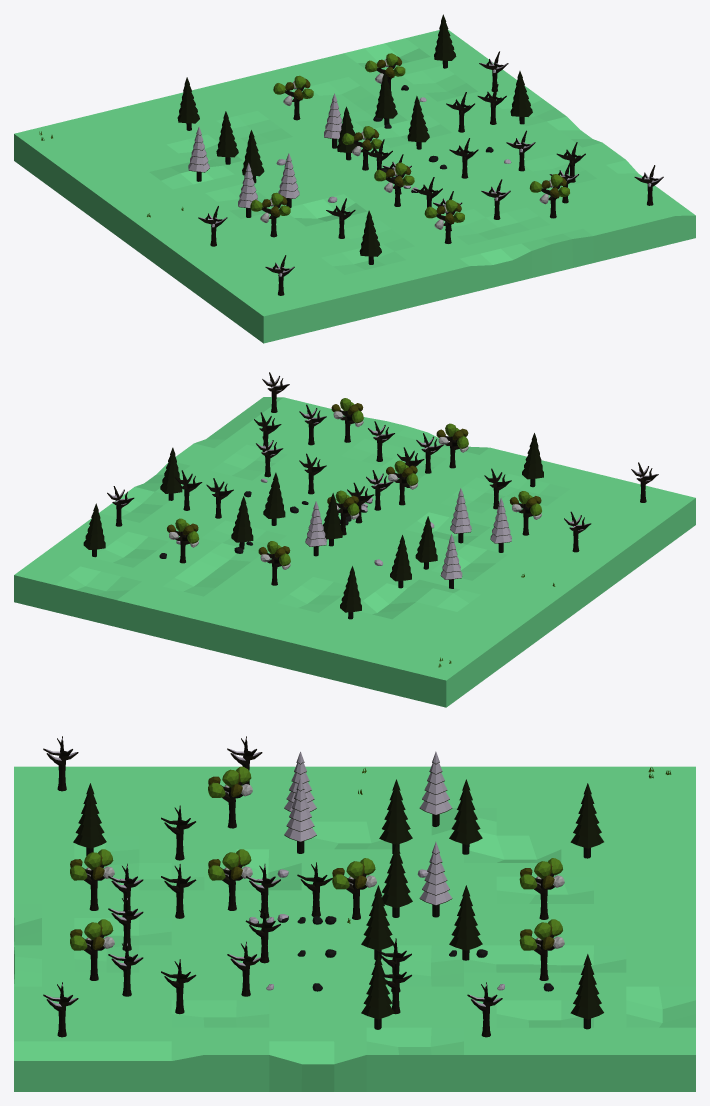
3 views of the same model, one above another, from view 1: azimuth 30°, elevation 25°; view 2: azimuth 150°, elevation 25°; view 3: azimuth 270°, elevation 25° (orthographic). The views are drawn at different scales.
Parts seen in each view (by area): view 1: Plane, Arbre_Normal_Cylinder.001, Arbre_Normal_Cylinder.007, Arbre_Normal_Cylinder.005, Arbre_Normal_Cylinder.004, Arbre_Normal_Cylinder.006, Arbre_Normal_Cylinder.002, Arbre_Normal_Cylinder.003, SapinHiver.015_Cylinder.004, SapinHiver.015_Cylinder.002, SapinHiver.015_Cylinder.008, SapinHiver.015_Cylinder.005 (+8 smaller); view 2: Plane, Arbre_Normal_Cylinder.007, Arbre_Normal_Cylinder.003, Arbre_Normal_Cylinder.005, Arbre_Normal_Cylinder.006, Arbre_Normal_Cylinder.004, Arbre_Normal_Cylinder.001, SapinHiver.015_Cylinder.008, SapinHiver.015_Cylinder.007, SapinHiver.015_Cylinder.001, SapinHiver.015_Cylinder.004, SapinHiver.015_Cylinder.006 (+9 smaller); view 3: Plane, Arbre_Normal_Cylinder.003, Arbre_Normal_Cylinder.001, Arbre_Normal_Cylinder.004, Arbre_Normal_Cylinder.007, Arbre_Normal_Cylinder.005, Arbre_Normal_Cylinder.002, Arbre_Normal_Cylinder.006, SapinHiver.015_Cylinder.005, SapinHiver.015_Cylinder.003, SapinHiver.015_Cylinder.002, SapinHiver.015_Cylinder.007 (+14 smaller).
Boxes of the visible parts, left/top/right/bottom form: Plane: left=14, top=29, right=695, bottom=343; Arbre_Normal_Cylinder.001: left=273, top=75, right=313, bottom=120; Arbre_Normal_Cylinder.007: left=250, top=192, right=290, bottom=237; Arbre_Normal_Cylinder.005: left=424, top=199, right=464, bottom=243; Arbre_Normal_Cylinder.004: left=529, top=174, right=569, bottom=218; Arbre_Normal_Cylinder.006: left=374, top=162, right=414, bottom=206; Arbre_Normal_Cylinder.002: left=342, top=126, right=382, bottom=170; Arbre_Normal_Cylinder.003: left=365, top=53, right=405, bottom=95; SapinHiver.015_Cylinder.004: left=407, top=96, right=429, bottom=149; SapinHiver.015_Cylinder.002: left=216, top=111, right=238, bottom=164; SapinHiver.015_Cylinder.008: left=359, top=210, right=381, bottom=264; SapinHiver.015_Cylinder.005: left=510, top=71, right=532, bottom=124; Plane: left=14, top=397, right=695, bottom=707; Arbre_Normal_Cylinder.007: left=509, top=491, right=541, bottom=535; Arbre_Normal_Cylinder.003: left=167, top=518, right=199, bottom=563; Arbre_Normal_Cylinder.005: left=436, top=423, right=468, bottom=468; Arbre_Normal_Cylinder.006: left=386, top=460, right=418, bottom=505; Arbre_Normal_Cylinder.004: left=331, top=398, right=363, bottom=442; Arbre_Normal_Cylinder.001: left=258, top=541, right=290, bottom=585; SapinHiver.015_Cylinder.008: left=522, top=433, right=543, bottom=487; SapinHiver.015_Cylinder.007: left=340, top=566, right=361, bottom=619; SapinHiver.015_Cylinder.001: left=415, top=516, right=437, bottom=569; SapinHiver.015_Cylinder.004: left=263, top=472, right=285, bottom=525; SapinHiver.015_Cylinder.006: left=83, top=503, right=105, bottom=557; Plane: left=14, top=766, right=695, bottom=1091; Arbre_Normal_Cylinder.003: left=519, top=919, right=564, bottom=980; Arbre_Normal_Cylinder.001: left=519, top=858, right=564, bottom=919; Arbre_Normal_Cylinder.004: left=70, top=919, right=114, bottom=980; Arbre_Normal_Cylinder.007: left=208, top=766, right=252, bottom=828; Arbre_Normal_Cylinder.005: left=70, top=849, right=114, bottom=910; Arbre_Normal_Cylinder.002: left=332, top=858, right=376, bottom=919; Arbre_Normal_Cylinder.006: left=208, top=849, right=252, bottom=910; SapinHiver.015_Cylinder.005: left=361, top=954, right=394, bottom=1029; SapinHiver.015_Cylinder.003: left=449, top=885, right=482, bottom=960; SapinHiver.015_Cylinder.002: left=449, top=779, right=482, bottom=854; SapinHiver.015_Cylinder.007: left=570, top=783, right=603, bottom=858.
Size of what is drawn, in the model's own units: 42.03 by 7.59 by 41.81.
